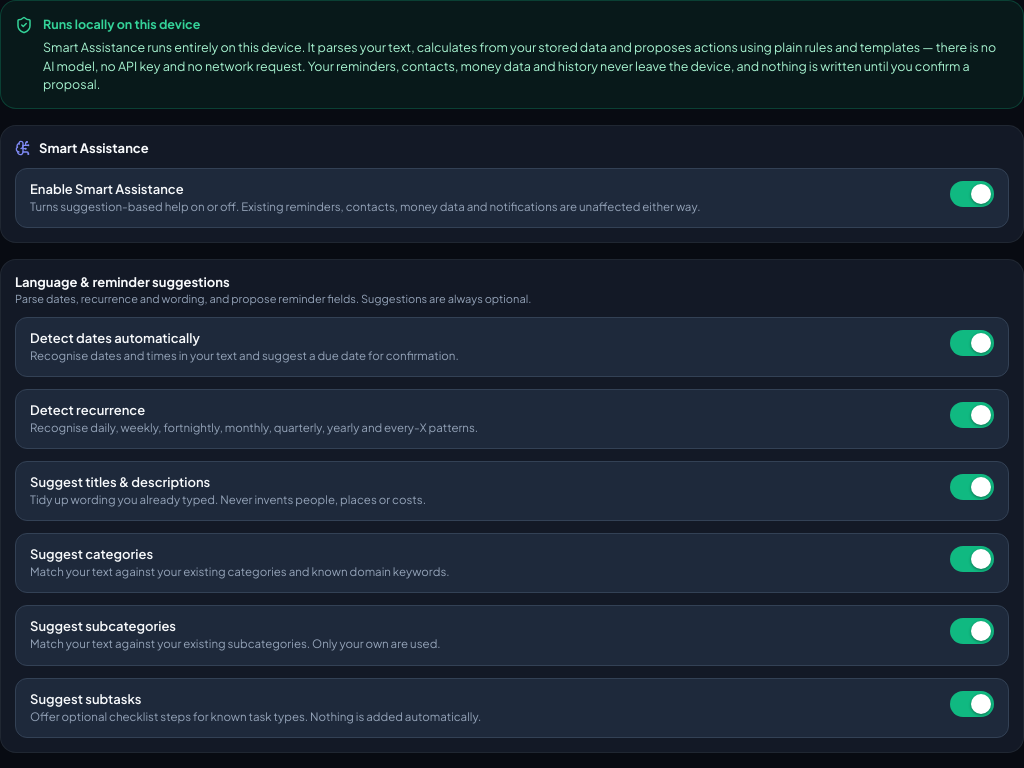
Test: Smart Assistance settings panel › shows the local-first explanation and persists per-feature toggles
Expected: the element with test id "smart-assistance-privacy" shows "Runs locally", [43, 16, 200, 32]
Expected: the element with test id "smart-assistance-privacy" shows "no network request", [43, 39, 996, 92]
Click the switch named "Suggest subtasks".
click(972, 704)  # box [950, 691, 994, 717]
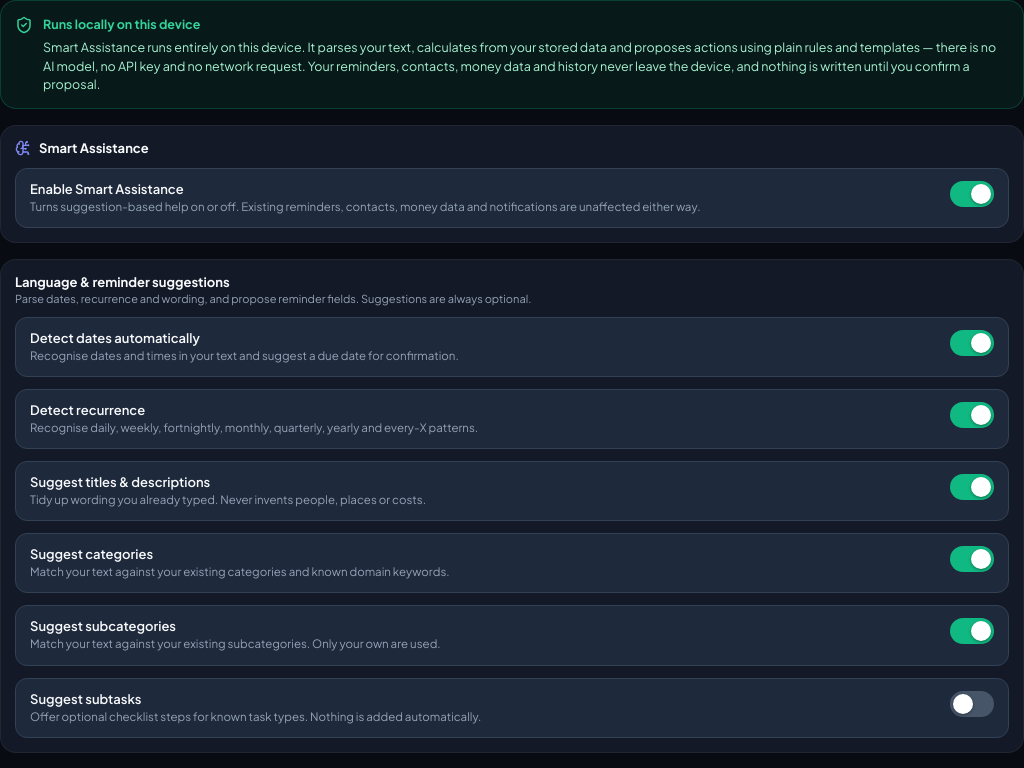
Expected: the switch named "Suggest subtasks" is not checked, [950, 691, 994, 717]
# Disabling the master switch keeps feature preferences but blocks interaction.
Click the switch named "Enable Smart Assistance".
click(972, 194)  # box [950, 181, 994, 207]
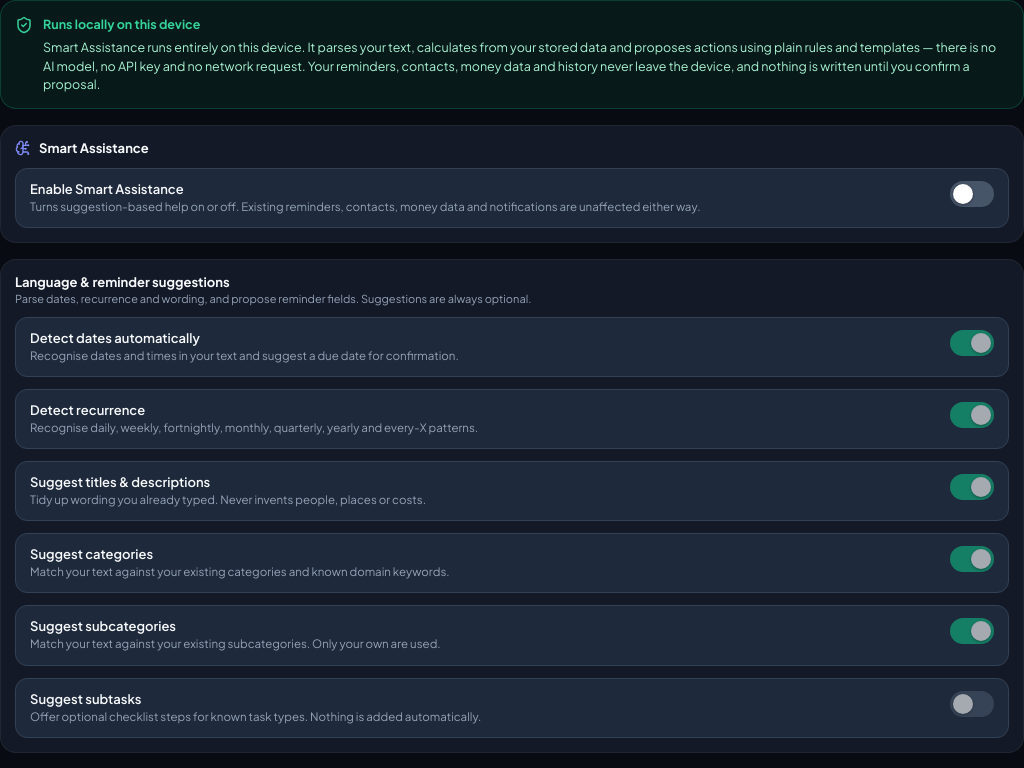
Expected: the switch named "Suggest subtasks" is disabled, [950, 691, 994, 717]
